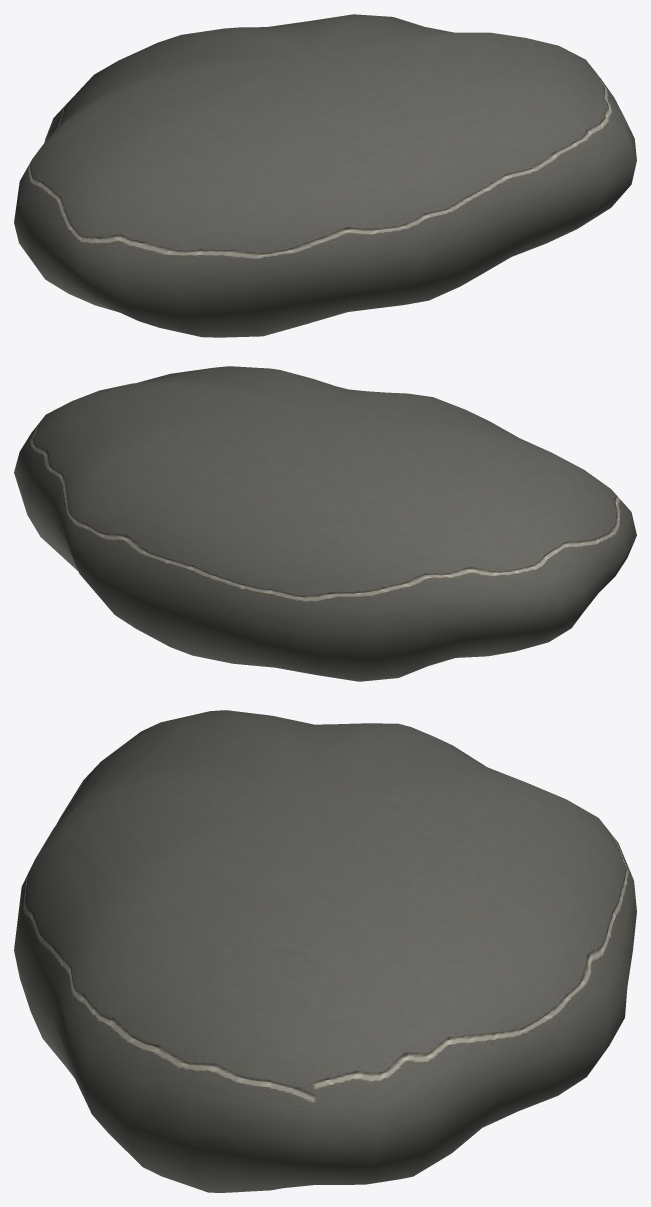
The model's file is river_stone_3.glb.
3 views of the same model, one above another, from view 1: azimuth 30°, elevation 25°; view 2: azimuth 150°, elevation 25°; view 3: azimuth 270°, elevation 25° (orthographic). The views are drawn at different scales.
Bounding box in the file's own units: 2.56 × 0.9936 × 1.81.
Materials: 1 (1 with a texture image).
